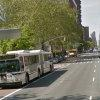Car: (66, 45, 79, 59)
